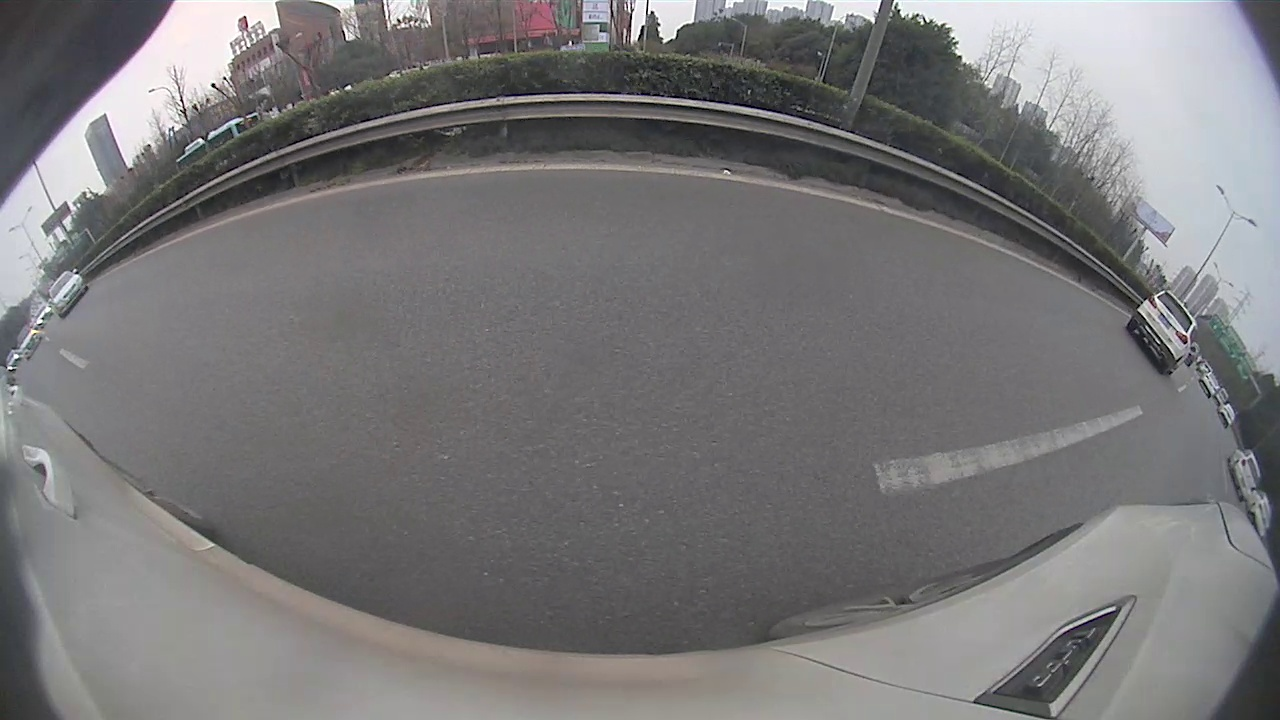car: (1125, 285, 1203, 378), (45, 270, 88, 320)
